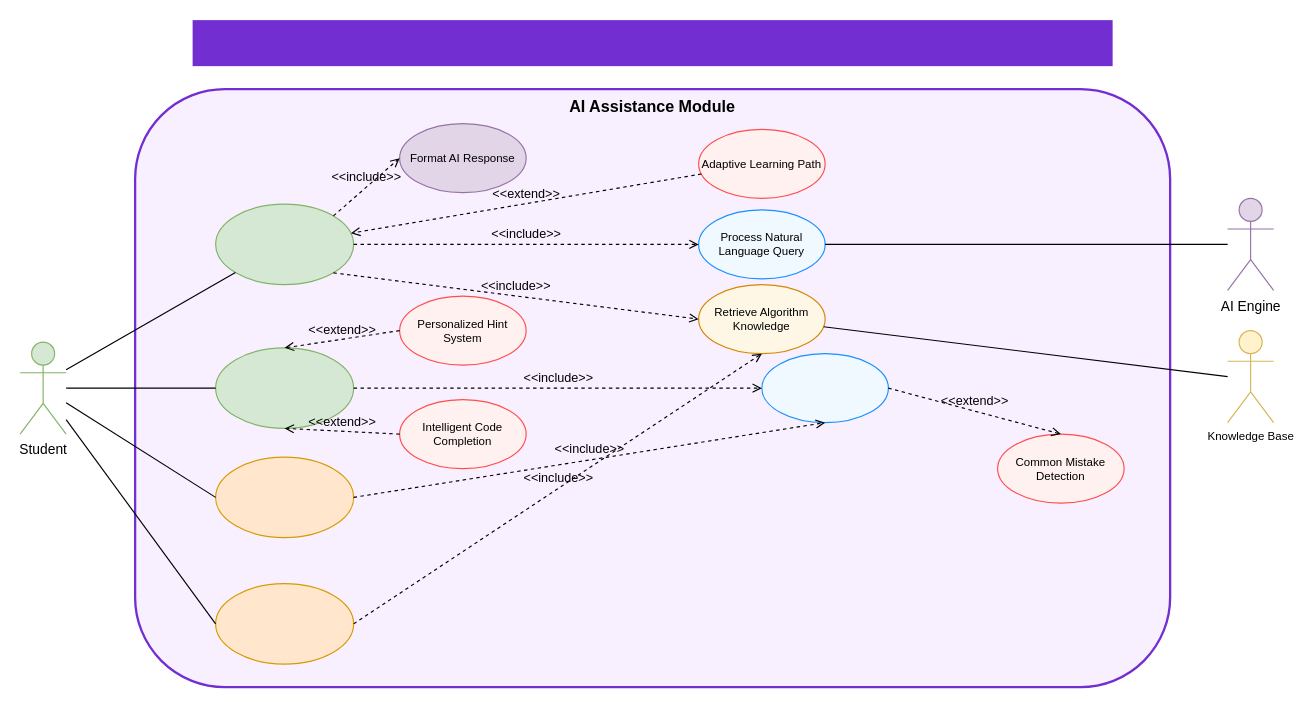
The diagram is 1313 pixels wide and 707 high, and some of its shapes have lost their labels. The box of each missing label's shape, as (x1, y1, x2, y2) in pixels:
Analyze Code Structure: (761, 352, 888, 423)
Ask Algorithm Question: (214, 203, 354, 285)
Generate Test Cases: (214, 582, 354, 664)
Get Code Hints: (214, 347, 354, 428)
Suggest Code Optimization: (214, 456, 354, 538)
UCdetail-08: AI Assistance Module: (192, 20, 1112, 66)
